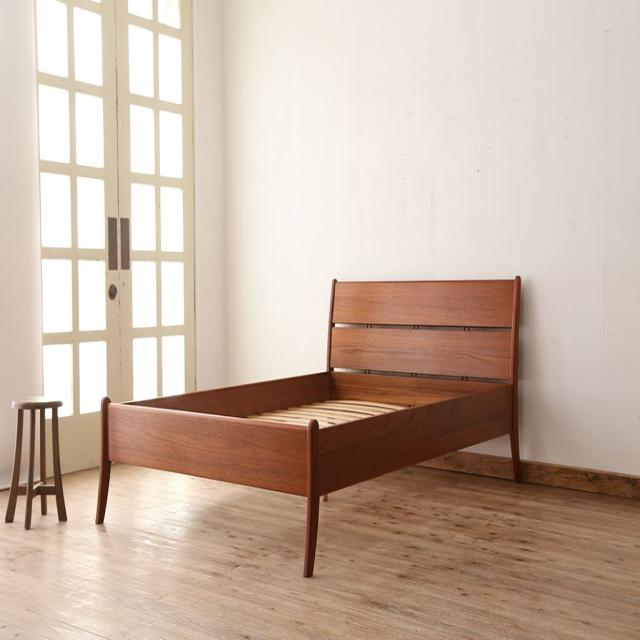bed vintage: (87, 267, 530, 579)
